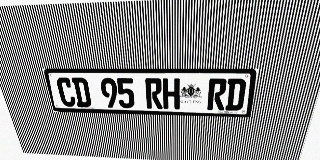5: (116, 78, 135, 108)
9: (100, 78, 119, 108)
C: (55, 78, 77, 107)
D: (225, 79, 247, 111), (71, 78, 92, 107)
H: (162, 78, 180, 109)
R: (207, 78, 227, 110), (145, 78, 163, 109)
